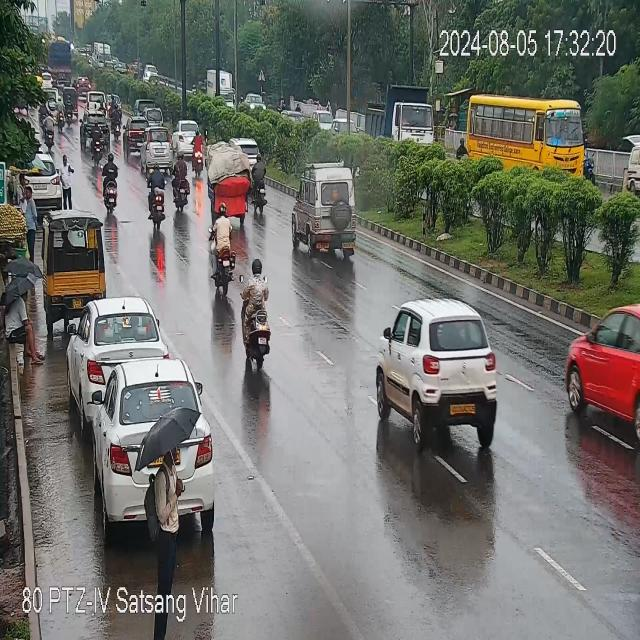2-wheelers: (241, 254, 277, 371), (204, 211, 242, 299), (145, 160, 169, 224), (98, 154, 123, 211), (251, 159, 273, 223), (176, 157, 193, 214), (192, 130, 207, 174), (44, 108, 58, 152), (114, 101, 122, 143)
auto: (43, 208, 106, 308), (208, 138, 249, 225)
bus: (466, 96, 586, 172)
car: (374, 302, 512, 446), (92, 357, 207, 501), (565, 298, 640, 432), (72, 296, 160, 397), (298, 164, 359, 258), (14, 157, 77, 209), (140, 128, 176, 168), (80, 106, 110, 151), (174, 121, 202, 143)
pedestrian: (4, 287, 34, 369), (20, 184, 42, 253), (60, 148, 74, 206)
truck: (363, 83, 438, 141), (46, 32, 78, 88)
